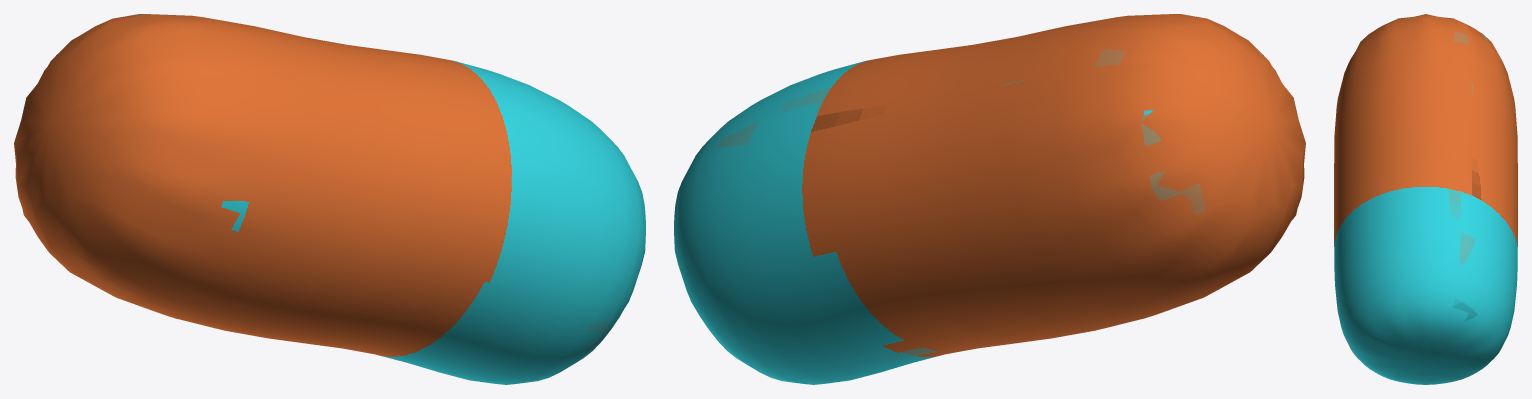
3 views of the same model, side by side, from view 1: azimuth 30°, elevation 25°; view 2: azimuth 150°, elevation 25°; view 3: azimuth 270°, elevation 25° (orthographic). The views are drawn at different scales.
Parts seen in each view (by area): view 1: Cylinder.056; view 2: Cylinder.056; view 3: Cylinder.056.
Part boxes in pixels (box(x1,y1,x2,y2)): Cylinder.056: box(14, 14, 645, 384); Cylinder.056: box(674, 14, 1305, 384); Cylinder.056: box(1334, 14, 1517, 384).
Size of the model in its own units: 0.2787 by 0.1949 by 0.1248.
1 material, 1 textured.
